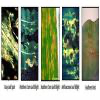Corn Gray leaf spot: (1, 10, 18, 81)
